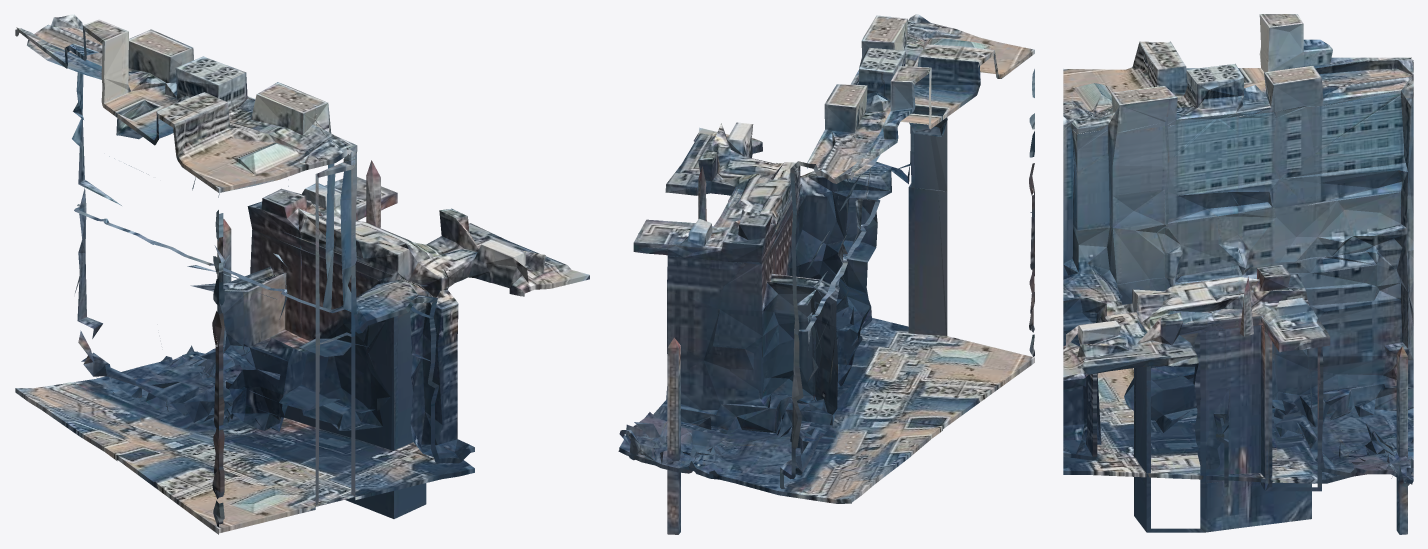
The model's file is chunk_4_5.glb.
3 renders of one model, left to right at view 1: azimuth 30°, elevation 25°; view 2: azimuth 150°, elevation 25°; view 3: azimuth 270°, elevation 25°, orthographic. The views are drawn at different scales.
Visible parts, largest first — view 1: hero-chunk; view 2: hero-chunk; view 3: hero-chunk.
Part boxes in pixels (x1,y1,x2,y2): hero-chunk: (15, 14, 589, 534); hero-chunk: (618, 14, 1034, 534); hero-chunk: (1063, 14, 1413, 534).
Bounding box in the file's own units: 80.65 × 104 × 76.33.
Materials: 5 (5 with a texture image).
